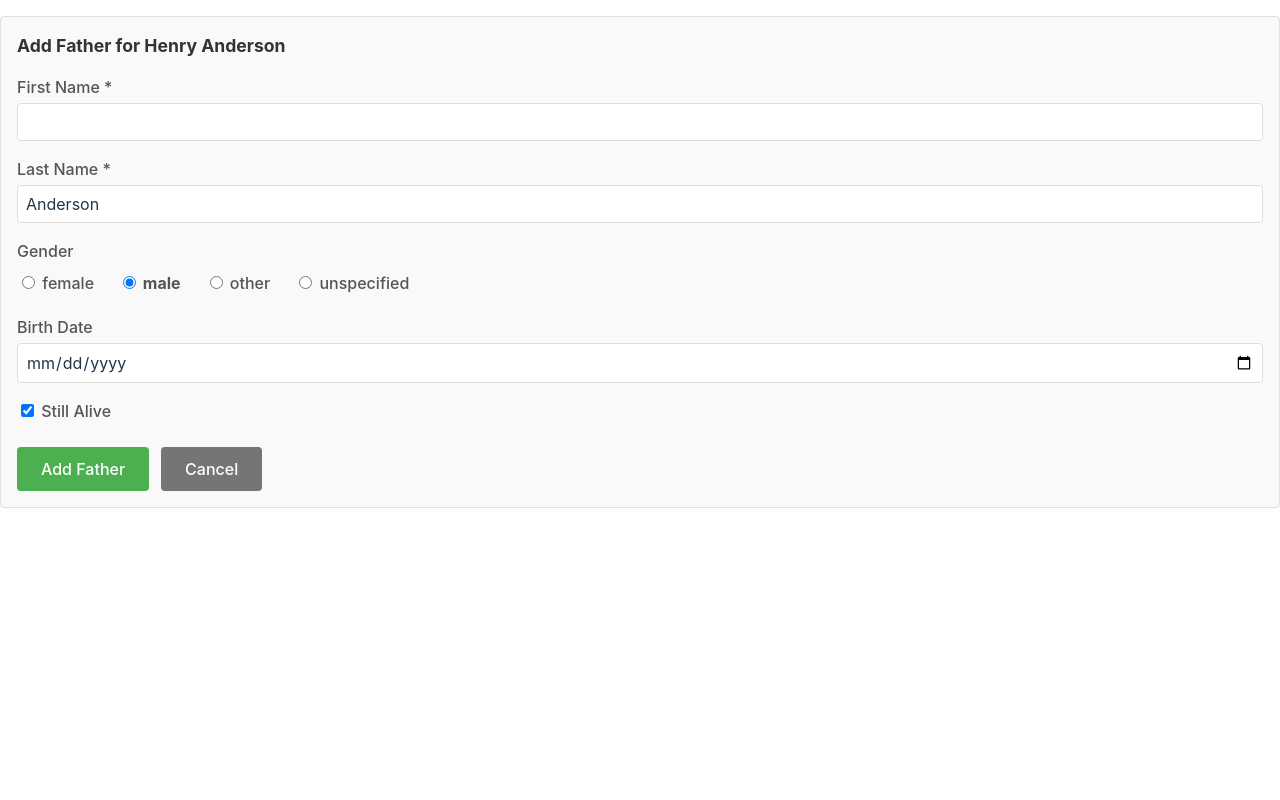
Test: QuickAddParent - Acceptance Tests (Issue #5) › Form Field Behavior › should show death date field when "Still Alive" is unchecked
Click the checkbox labelled "Still Alive".
click(28, 411)  # box x1=21 y1=404 x2=34 y2=417
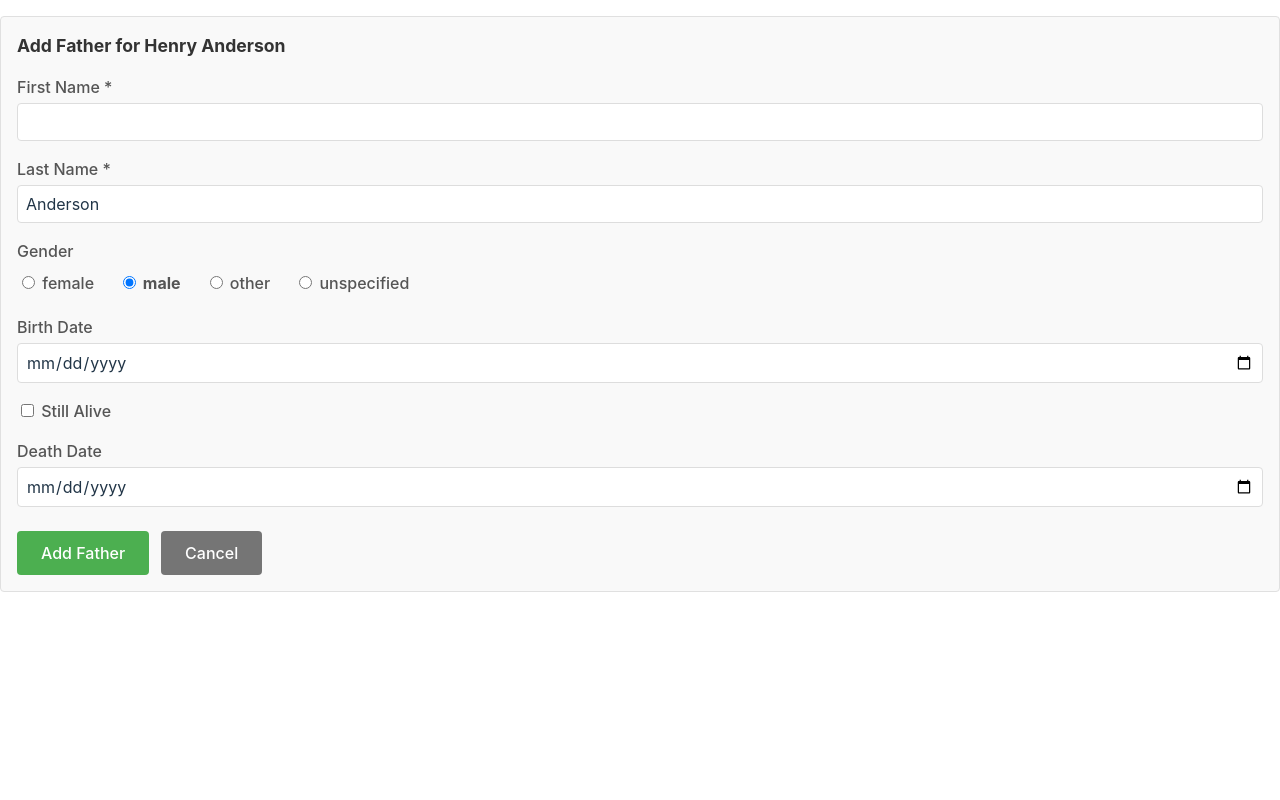
Expected: the date field labelled "Death Date" is shown, x1=17 y1=467 x2=1263 y2=507
